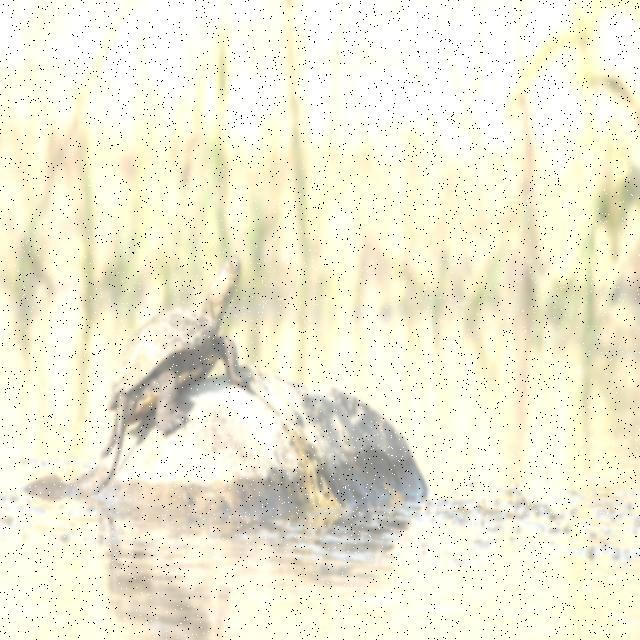tortoise: (41, 255, 275, 432)
